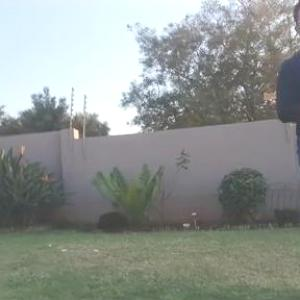follow: (267, 0, 299, 297)
